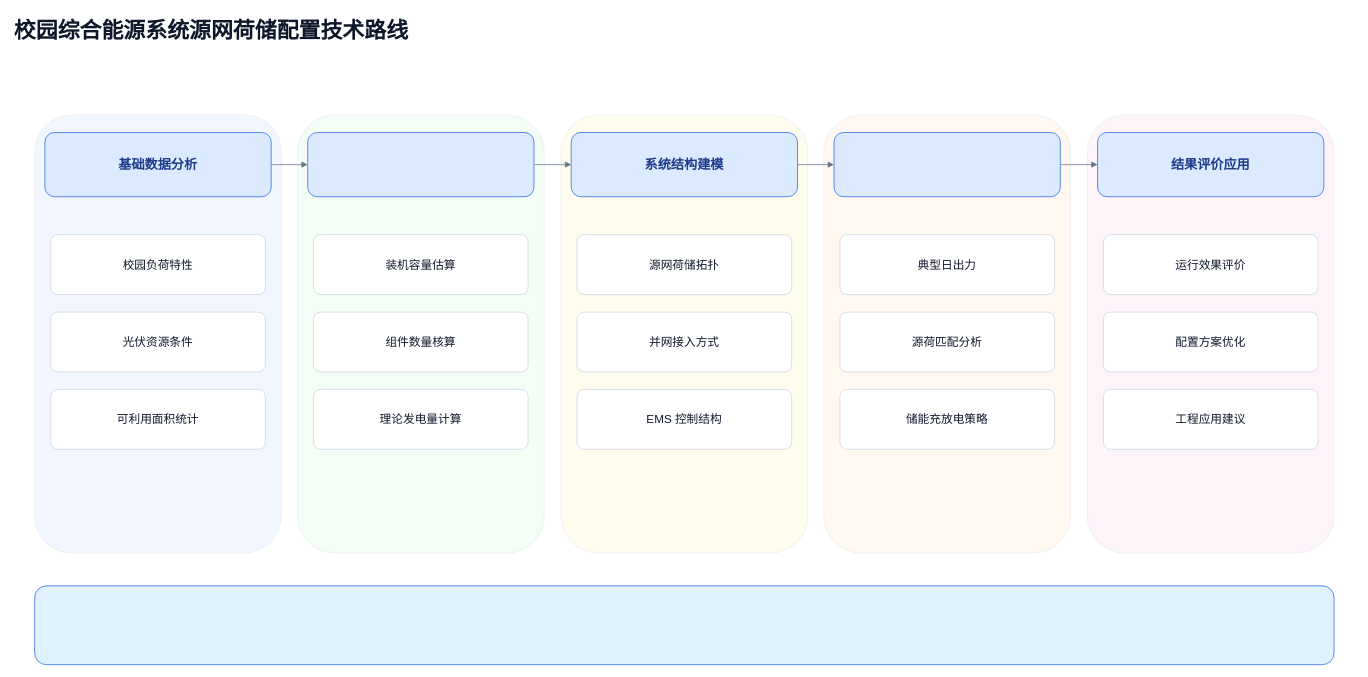
Image size: 1368x677. Some labels were removed from this diagram. Each missing label, with the centre of its shape:
"容量配置计算" goes at (420,164).
"成果输出：形成校园综合能源系统源网荷储配置方案与运行优化分析结果" goes at (684,625).
"运行仿真优化" goes at (946,164).
